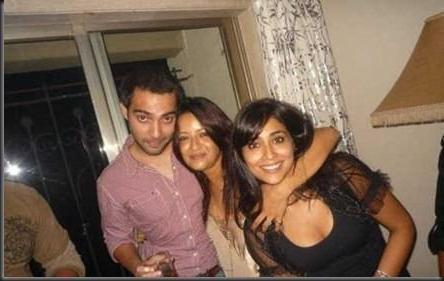Drunk: (244, 125, 293, 184), (129, 90, 176, 150), (176, 115, 216, 168)
